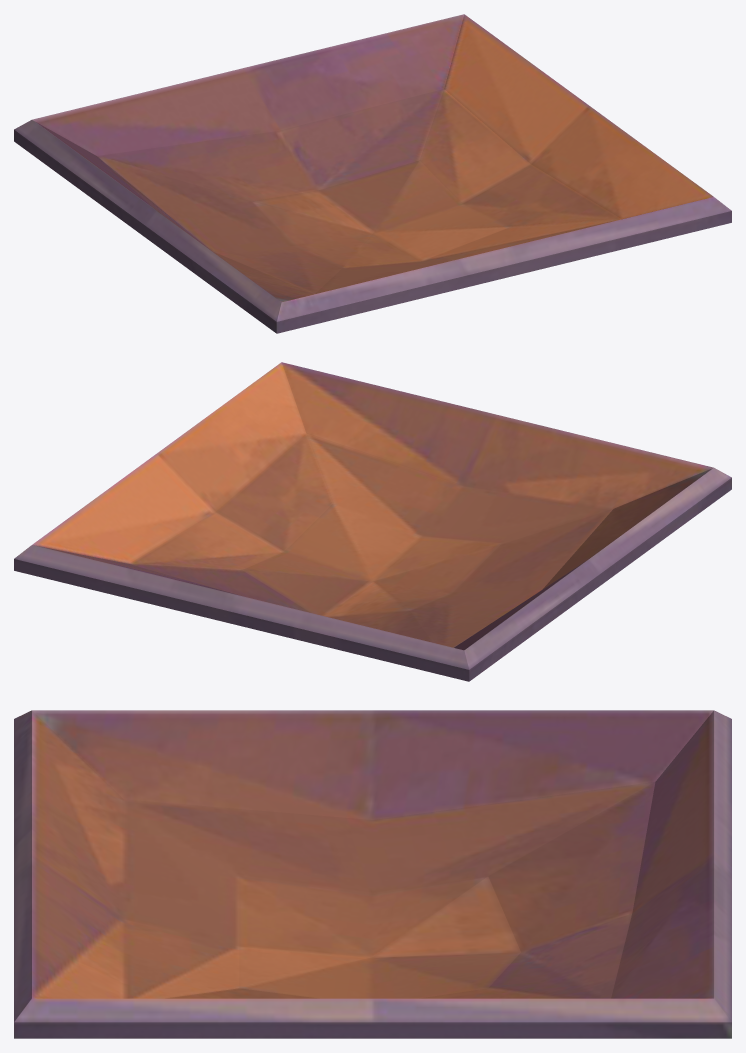
The model's file is tile_quicksand.fbx.
3 renders of one model, top to bottom at view 1: azimuth 30°, elevation 25°; view 2: azimuth 150°, elevation 25°; view 3: azimuth 270°, elevation 25°, orthographic. The views are drawn at different scales.
Parts seen in each view (by area): view 1: tile_quicksand1; view 2: tile_quicksand1; view 3: tile_quicksand1.
Boxes of the visible parts, x1,y1,x2,y2 form: tile_quicksand1: (14,14,731,333); tile_quicksand1: (14,362,731,681); tile_quicksand1: (14,710,731,1038).
Size of the model in its own units: 0.02 by 0.00316 by 0.02.
